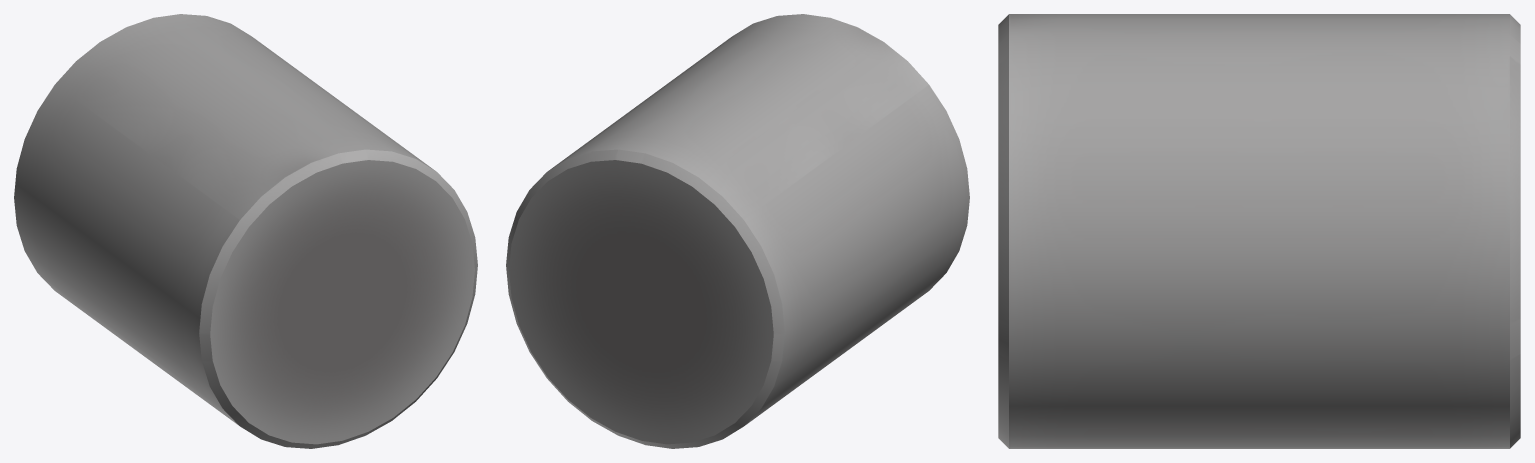
Rendered from pin2_textured.glb.
3 renders of one model, left to right at view 1: azimuth 30°, elevation 25°; view 2: azimuth 150°, elevation 25°; view 3: azimuth 270°, elevation 25°, orthographic. The views are drawn at different scales.
Parts seen in each view (by area): view 1: pin2; view 2: pin2; view 3: pin2.
Part boxes in pixels (x1,y1,x2,y2): pin2: (14, 14, 477, 448); pin2: (506, 14, 969, 448); pin2: (998, 14, 1520, 448).
Size of the model in its own units: 0.1 by 0.1 by 0.12.
1 material, 1 textured.
